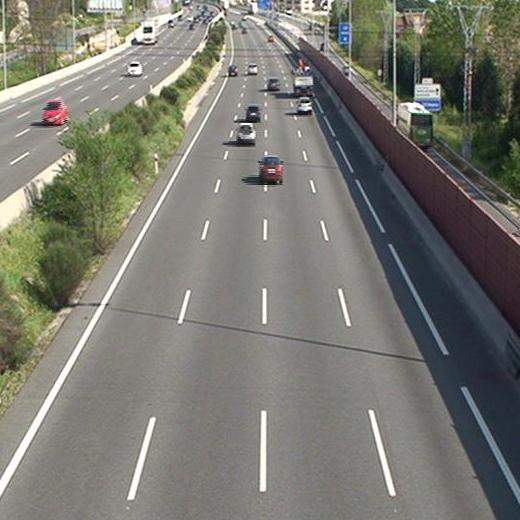car: (259, 156, 283, 181), (237, 124, 255, 142), (297, 97, 311, 112), (246, 106, 260, 119), (247, 63, 257, 74), (267, 78, 278, 88), (228, 65, 237, 76)
small-truck: (292, 67, 313, 93)
